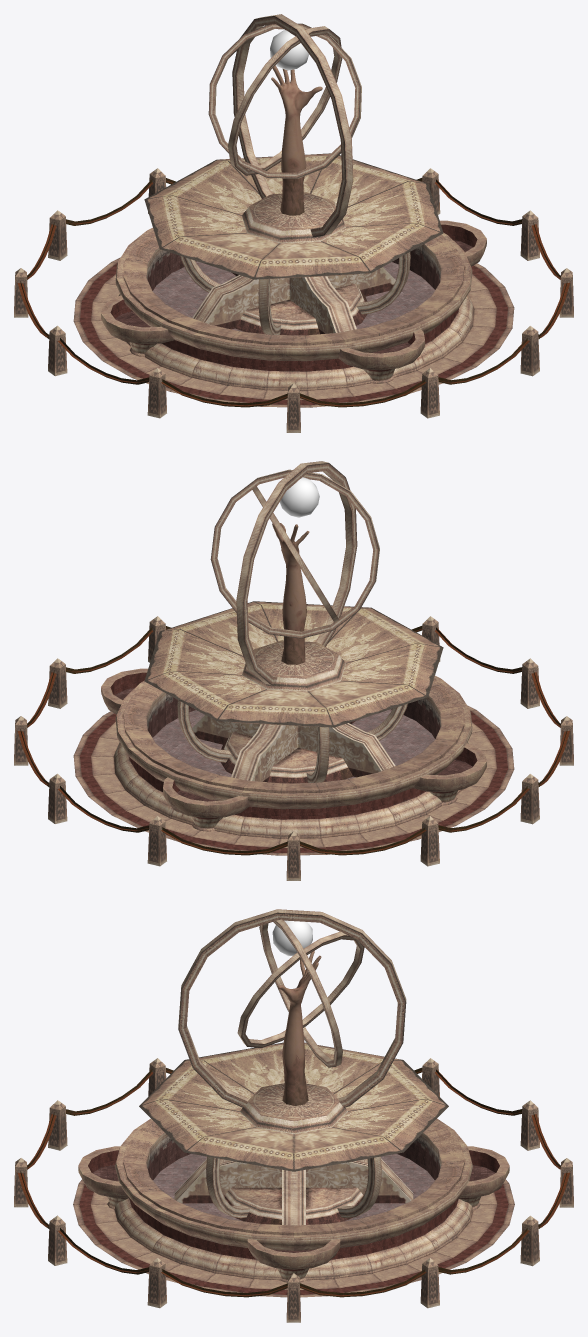
The model's file is Fountain.fbx.
3 views of the same model, one above another, from view 1: azimuth 30°, elevation 25°; view 2: azimuth 150°, elevation 25°; view 3: azimuth 270°, elevation 25° (orthographic).
Parts seen in each view (by area): view 1: Combined_FountainRoot_Mesh, Combined_FountainRoot_Mesh_3, Combined_FountainRoot_Mesh_2, Combined_FountainRoot_Mesh_5, Combined_FountainRoot_Mesh_1, Combined_FountainRoot_Mesh_4; view 2: Combined_FountainRoot_Mesh, Combined_FountainRoot_Mesh_3, Combined_FountainRoot_Mesh_2, Combined_FountainRoot_Mesh_5, Combined_FountainRoot_Mesh_1, Combined_FountainRoot_Mesh_4; view 3: Combined_FountainRoot_Mesh, Combined_FountainRoot_Mesh_2, Combined_FountainRoot_Mesh_3, Combined_FountainRoot_Mesh_5, Combined_FountainRoot_Mesh_1, Combined_FountainRoot_Mesh_4.
Boxes of the visible parts, bbox=[...] form: Combined_FountainRoot_Mesh: bbox=[14, 168, 573, 432]; Combined_FountainRoot_Mesh_3: bbox=[144, 65, 443, 279]; Combined_FountainRoot_Mesh_2: bbox=[180, 14, 410, 335]; Combined_FountainRoot_Mesh_5: bbox=[17, 178, 569, 407]; Combined_FountainRoot_Mesh_1: bbox=[152, 261, 434, 331]; Combined_FountainRoot_Mesh_4: bbox=[270, 30, 309, 70]; Combined_FountainRoot_Mesh: bbox=[14, 616, 573, 880]; Combined_FountainRoot_Mesh_3: bbox=[144, 523, 443, 727]; Combined_FountainRoot_Mesh_2: bbox=[177, 461, 407, 783]; Combined_FountainRoot_Mesh_5: bbox=[17, 626, 569, 855]; Combined_FountainRoot_Mesh_1: bbox=[153, 709, 435, 779]; Combined_FountainRoot_Mesh_4: bbox=[279, 477, 319, 517]; Combined_FountainRoot_Mesh: bbox=[14, 1058, 573, 1322]; Combined_FountainRoot_Mesh_2: bbox=[174, 909, 413, 1225]; Combined_FountainRoot_Mesh_3: bbox=[139, 951, 448, 1171]; Combined_FountainRoot_Mesh_5: bbox=[17, 1067, 569, 1297]; Combined_FountainRoot_Mesh_1: bbox=[153, 1154, 434, 1220]; Combined_FountainRoot_Mesh_4: bbox=[272, 920, 312, 956].
Size of the model in its own units: 2183 by 1259 by 2183.
